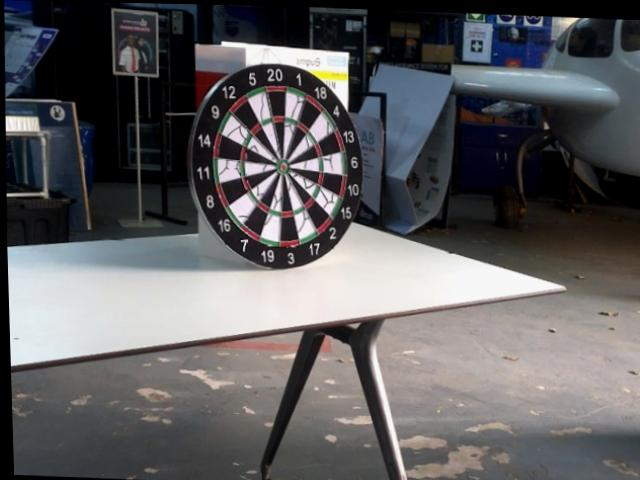single_5: (257, 92, 276, 156)
